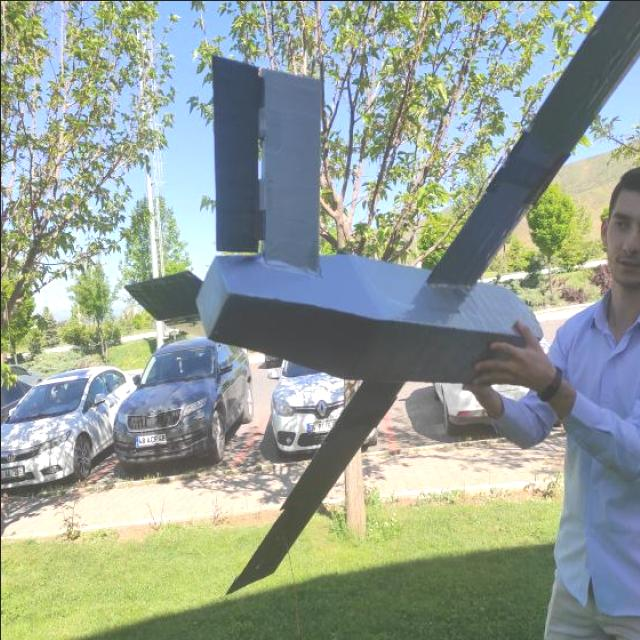plane: (121, 0, 640, 593)
